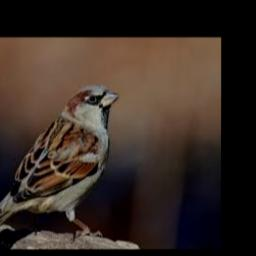Sparrow: (0, 85, 118, 246)
